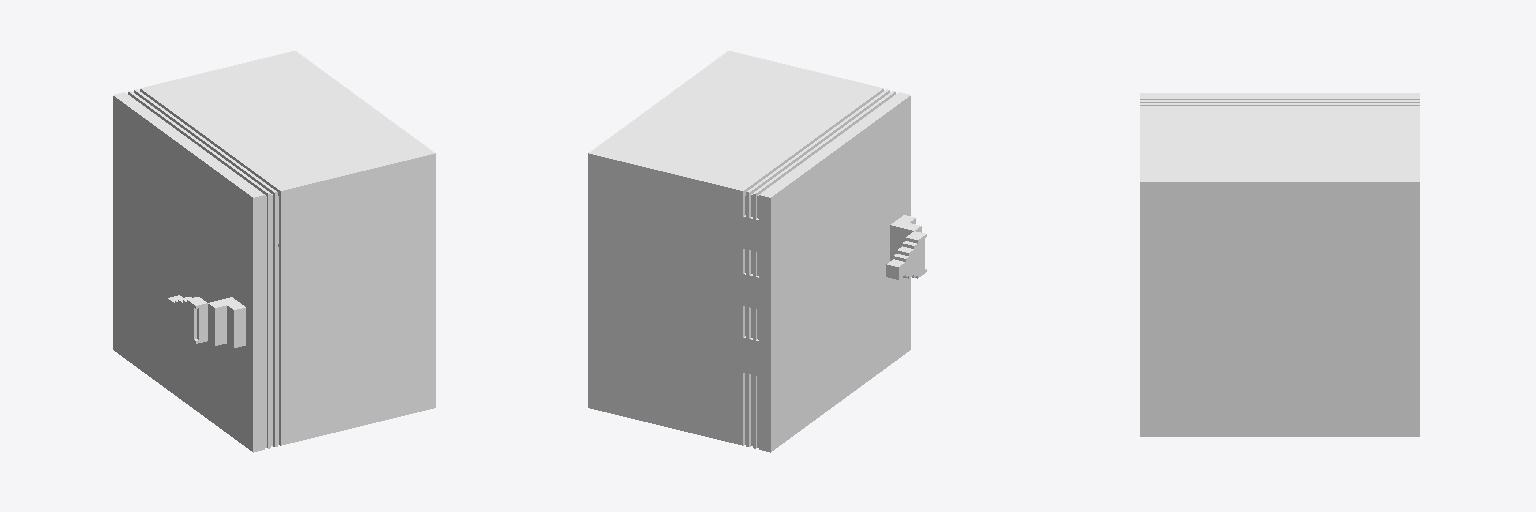
Rendered from freez.obj.
The picture shows the model from 3 angles: view 1: azimuth 30°, elevation 25°; view 2: azimuth 150°, elevation 25°; view 3: azimuth 270°, elevation 25°; orthographic projection.
Bounding box in the file's own units: 72 × 80 × 80.